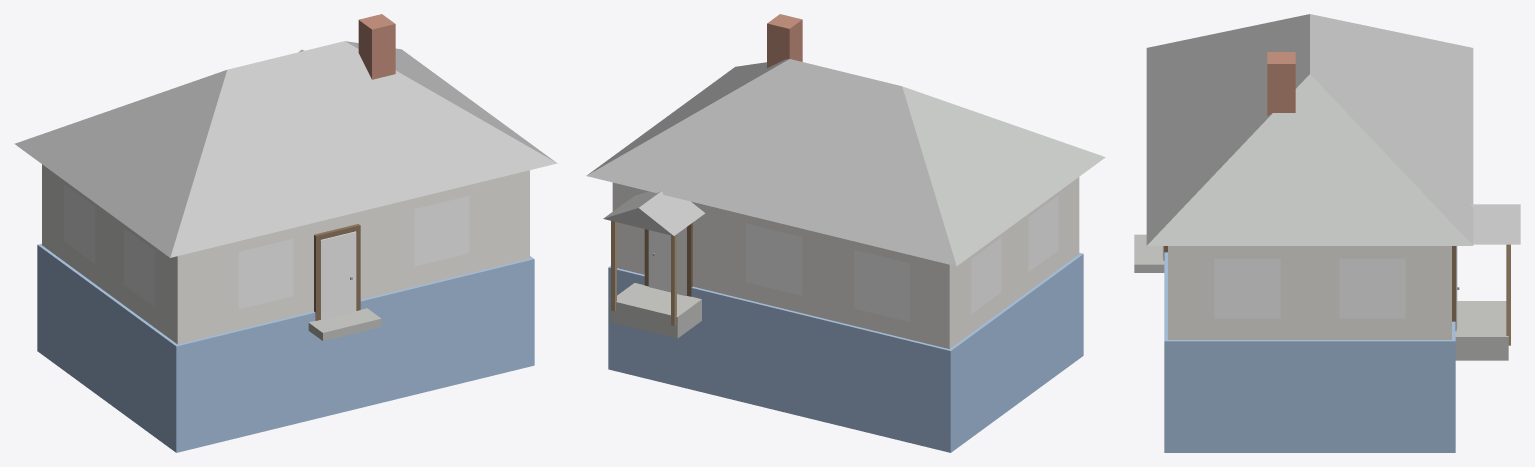
The model's file is khata.glb.
3 renders of one model, left to right at view 1: azimuth 30°, elevation 25°; view 2: azimuth 150°, elevation 25°; view 3: azimuth 270°, elevation 25°, orthographic. The views are drawn at different scales.
Visible parts, largest first — view 1: khata; view 2: khata; view 3: khata.
Boxes of the visible parts, x1,y1,x2,y2 form: khata: (14, 14, 557, 452); khata: (586, 14, 1105, 452); khata: (1134, 14, 1520, 452).
Size of what is drawn, in the model's own units: 9.9 by 8 by 8.16.
